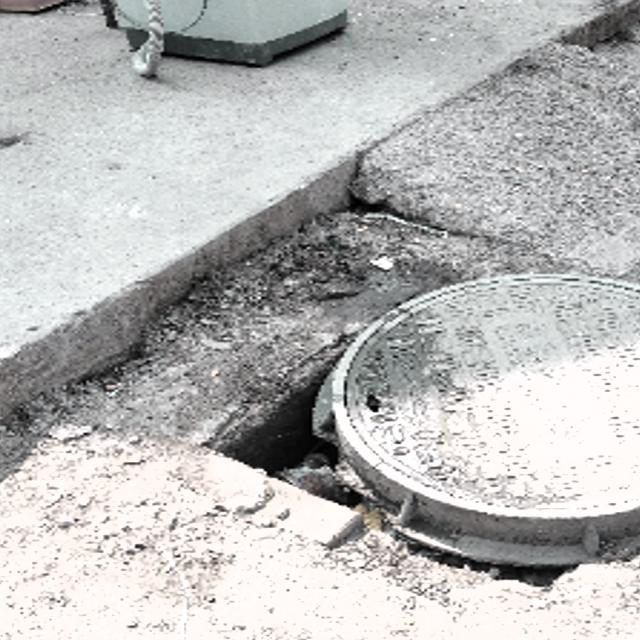circle: (247, 253, 640, 577)
